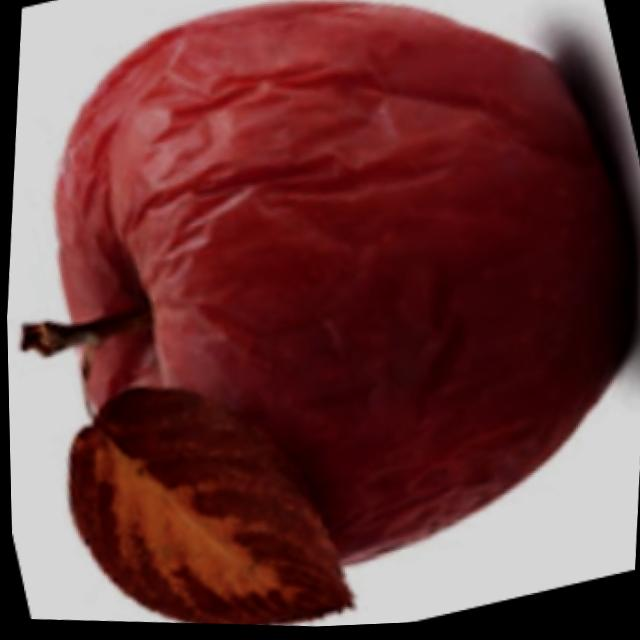organik: (1, 0, 606, 575)
